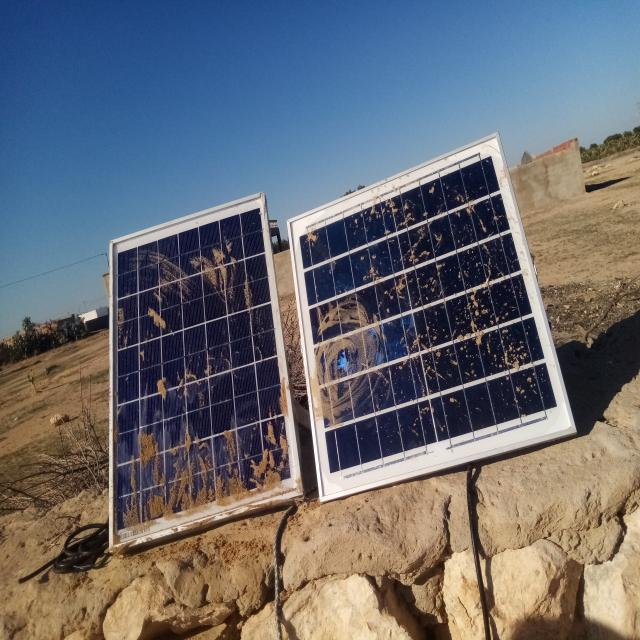faulty: (291, 139, 575, 501), (111, 195, 302, 546)
